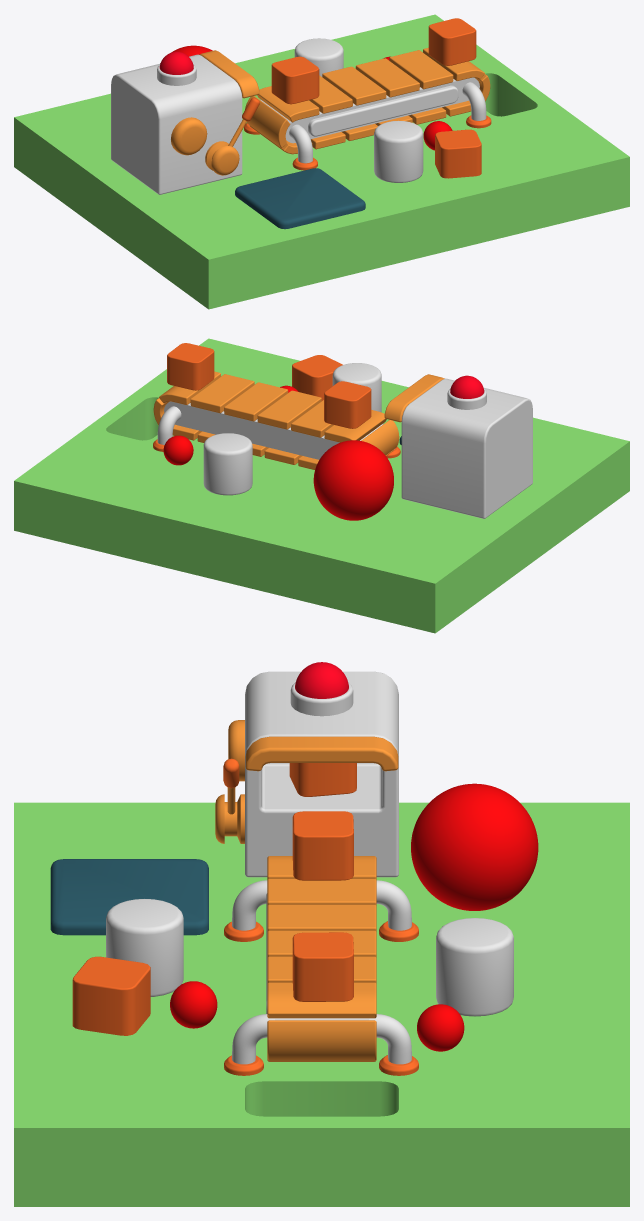
File: FactoryMechineModif.fbx
The picture shows the model from 3 angles, top to bottom: view 1: azimuth 30°, elevation 25°; view 2: azimuth 150°, elevation 25°; view 3: azimuth 270°, elevation 25°; orthographic projection. The views are drawn at different scales.
Visible parts, largest first — view 1: Generator; view 2: Generator; view 3: Generator.
Boxes of the visible parts, <box> form: Generator: <box>14,14,629,309</box>; Generator: <box>14,338,629,633</box>; Generator: <box>14,662,629,1206</box>.
Size of the model in its own units: 1000 by 383 by 800.
